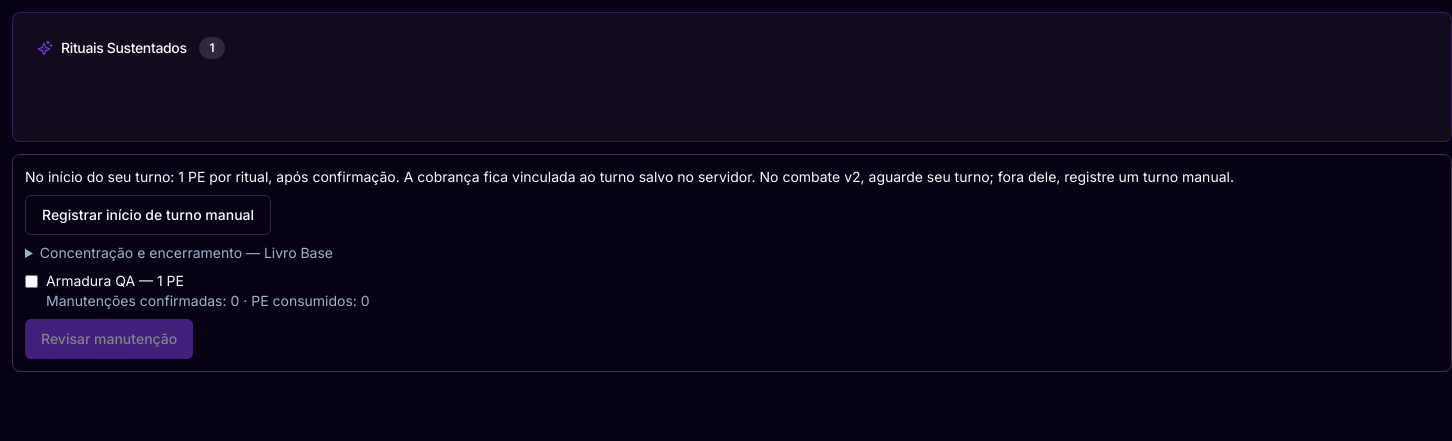
it: confirmação explícita da sustentação › não permite turno manual sobre combate ativo nem manutenção fora da vez
Step 1. Click the button "Registrar início de turno manual" → [148, 215], box [25,195,271,235]
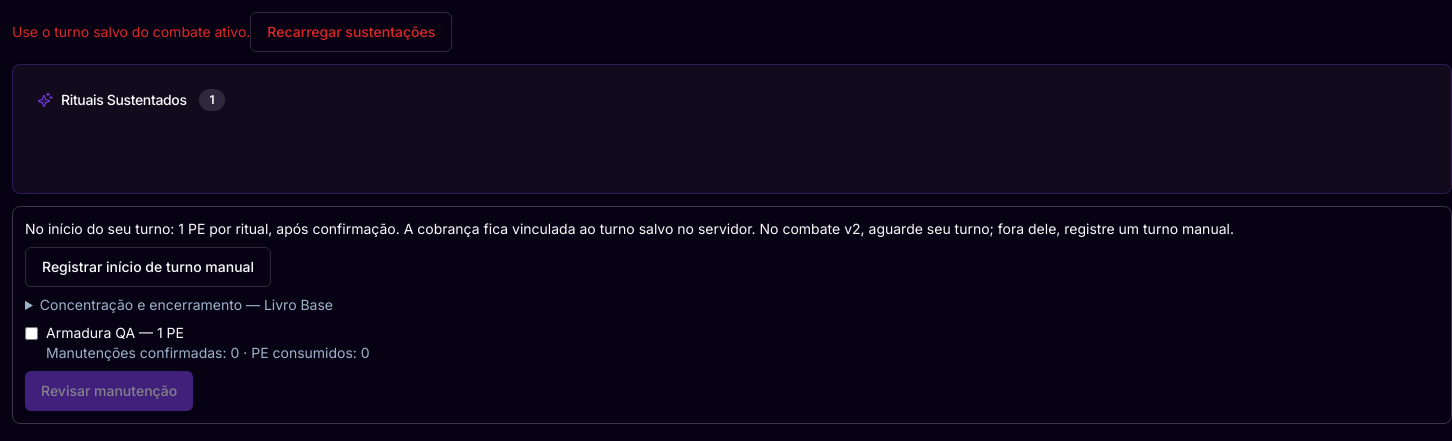
Expected: the text "Use o turno salvo do combate ativo." is shown, [12,23,250,40]
Step 2. Click the checkbox → [32, 334], box [25,327,38,340]
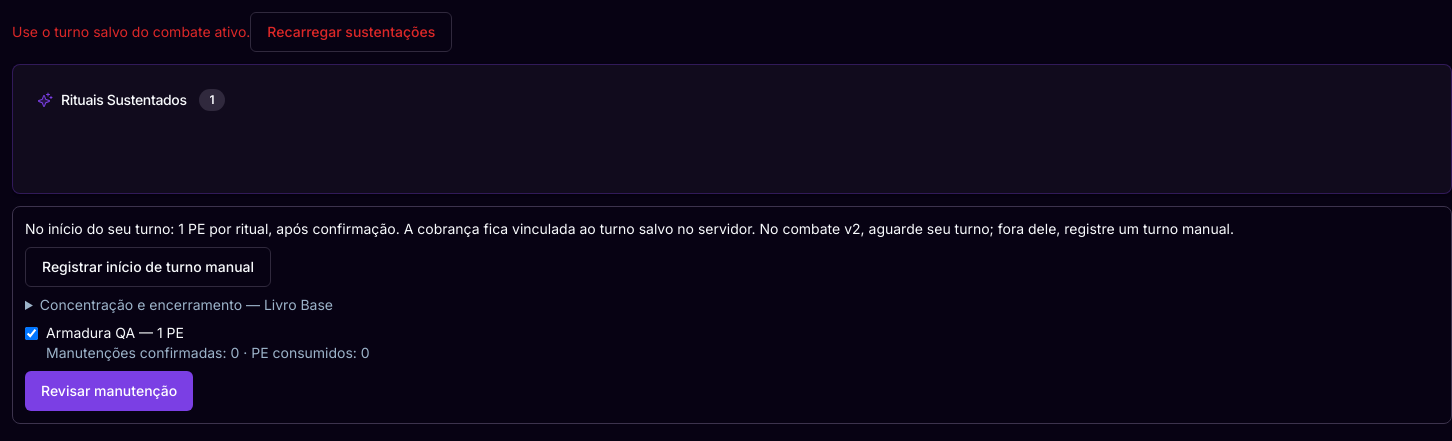
Step 3. Click the button "Revisar manutenção" → [109, 391], box [25,371,193,411]
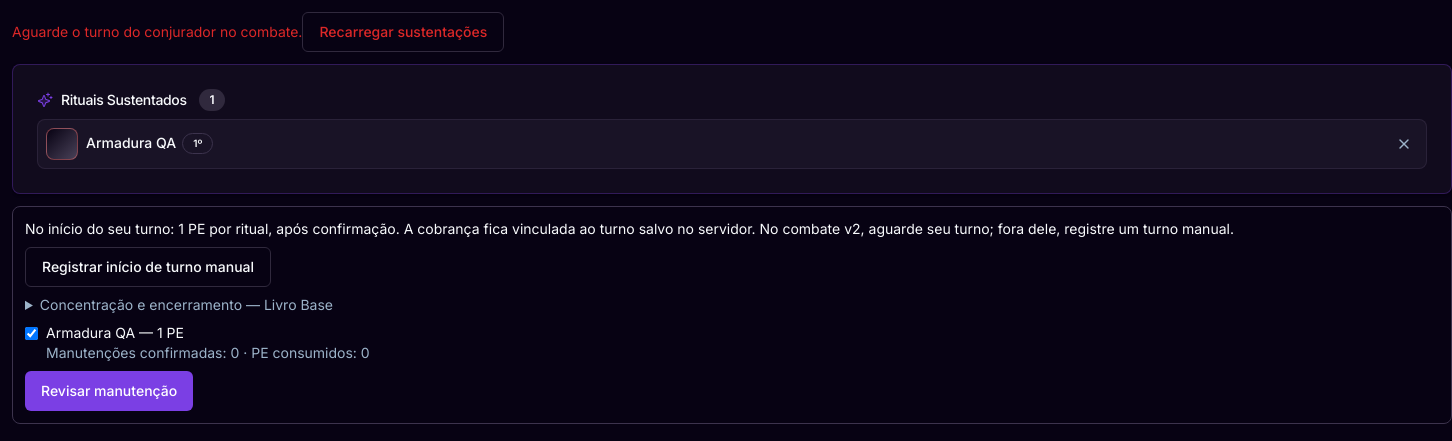
Expected: the text "Aguarde o turno do conjurador no combate." is shown, [12,23,302,40]
